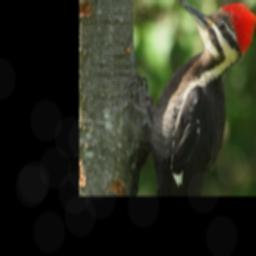Woodpecker: (130, 0, 256, 195)
